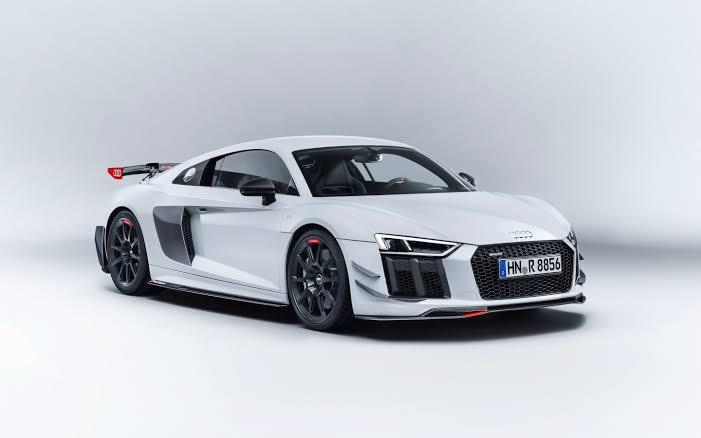audi: (80, 132, 592, 334)
